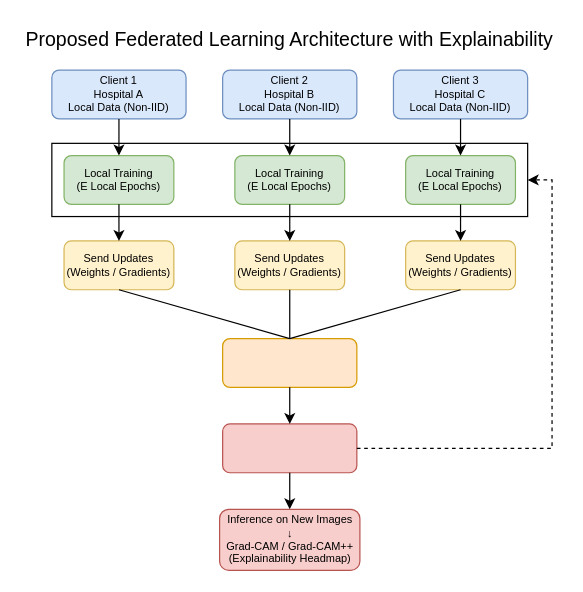
Image size: 583x592. Some labels were removed from this diagram. Each missing label, with the centre of its shape:
Central Server FeAvg Aggregation: pixel 289 362
Global Model (Updated Each Round): pixel 289 448
